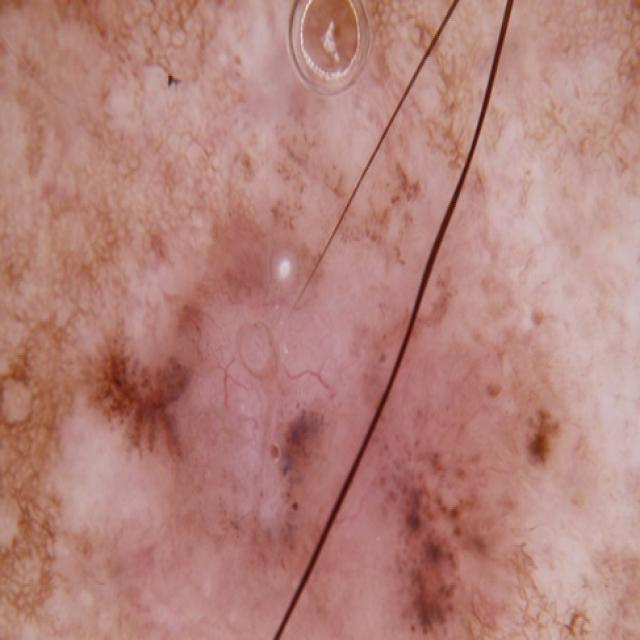Carcinoma: (43, 190, 581, 640)
